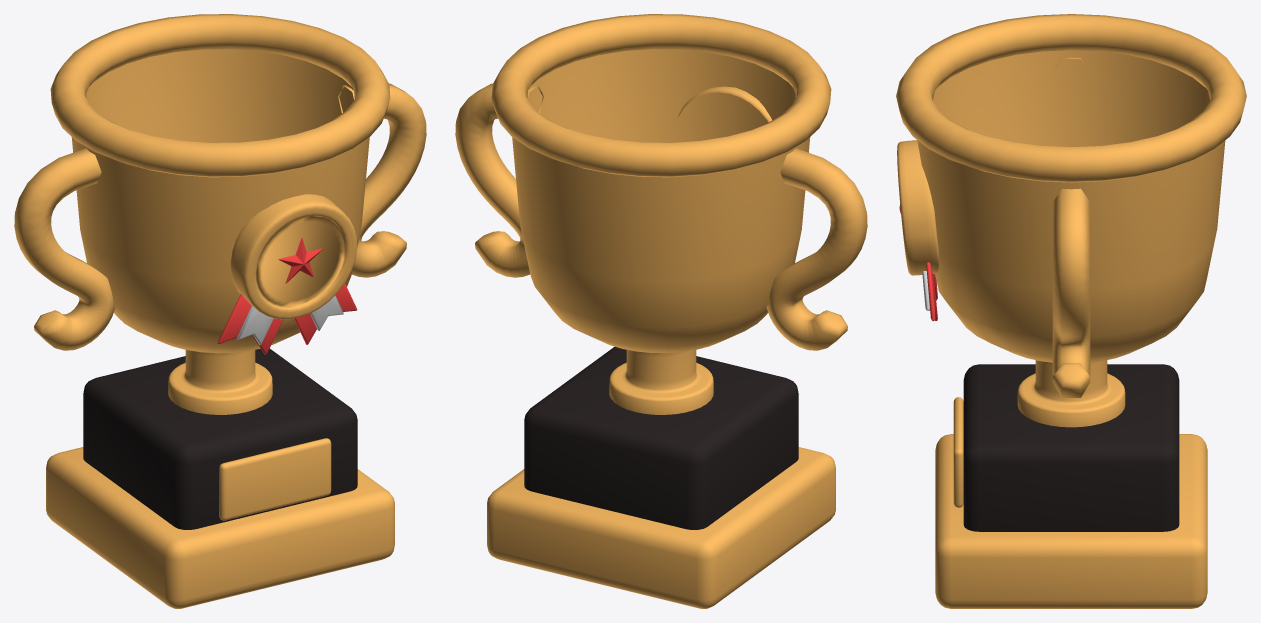
The model's file is trofeu_grv_retopo.glb.
3 renders of one model, left to right at view 1: azimuth 30°, elevation 25°; view 2: azimuth 150°, elevation 25°; view 3: azimuth 270°, elevation 25°, orthographic. The views are drawn at different scales.
Visible parts, largest first — view 1: Circle.002; view 2: Circle.002; view 3: Circle.002.
Boxes of the visible parts, x1,y1,x2,y2 form: Circle.002: (14, 14, 426, 608); Circle.002: (455, 14, 867, 608); Circle.002: (896, 14, 1246, 608).
Size of the model in its own units: 2.56 by 2.79 by 1.87.
1 material, 1 textured.
